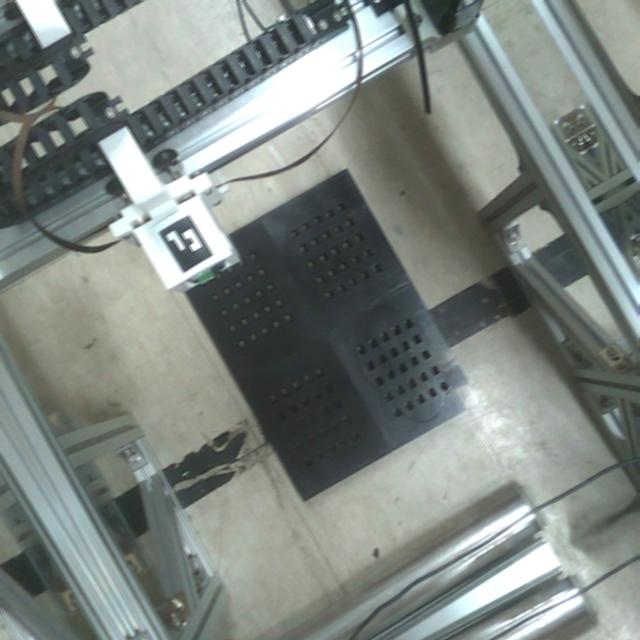pallet: (158, 160, 488, 510)
